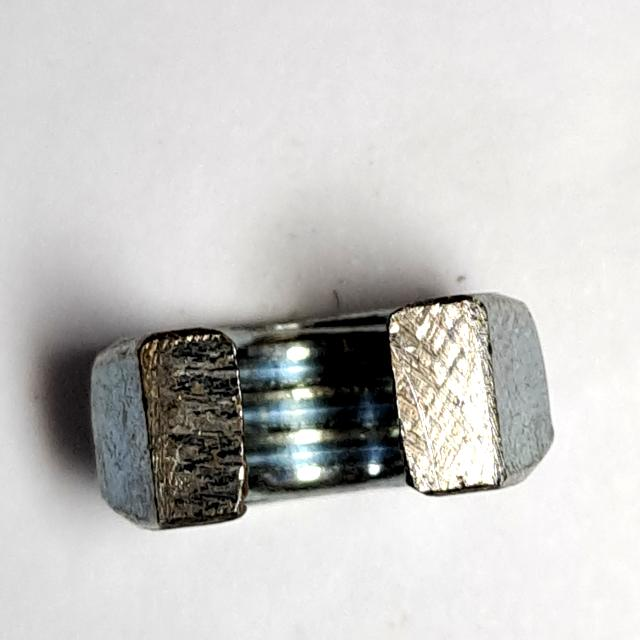Side-Fracture: (75, 275, 574, 553)
